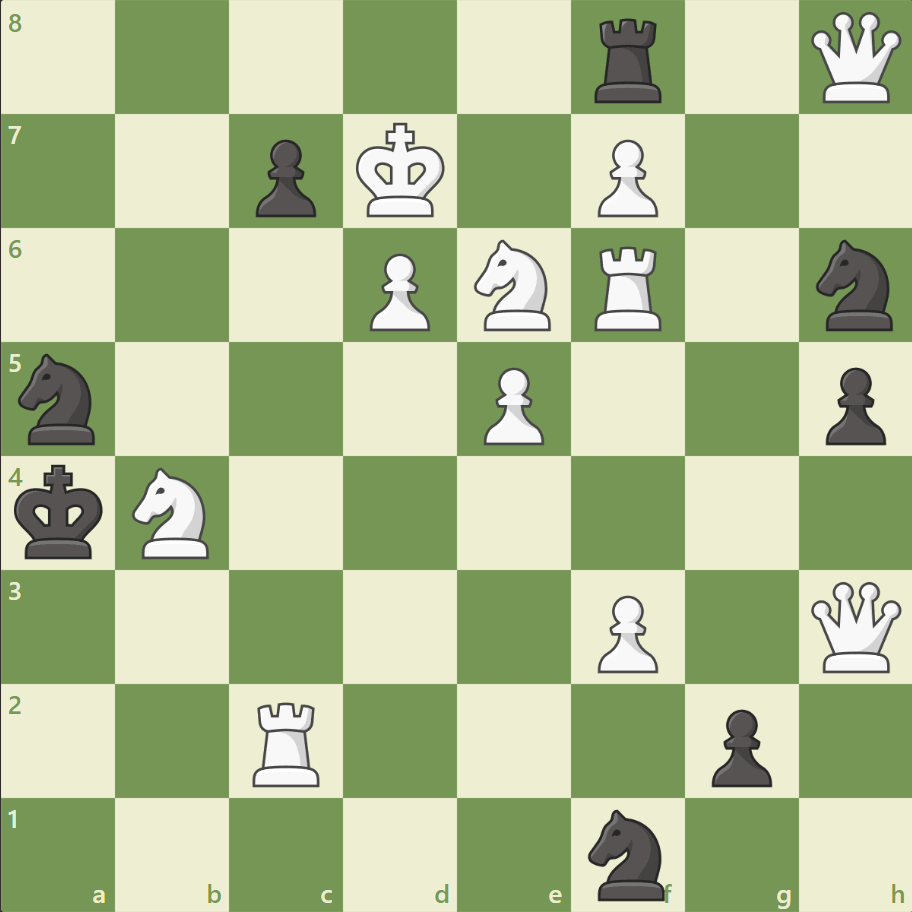K: (351, 117, 451, 225)
N: (124, 461, 222, 564), (465, 234, 562, 337)
P: (474, 359, 549, 450), (588, 132, 662, 223), (361, 246, 435, 337), (588, 586, 662, 677)
Q: (805, 576, 904, 676), (805, 9, 904, 108)
R: (587, 239, 670, 336), (246, 693, 329, 790)
k: (11, 458, 111, 566)
n: (806, 234, 903, 337), (11, 348, 108, 450), (579, 802, 676, 904)
p: (247, 132, 322, 223), (701, 700, 776, 791), (815, 359, 889, 450)
r: (587, 12, 670, 109)
